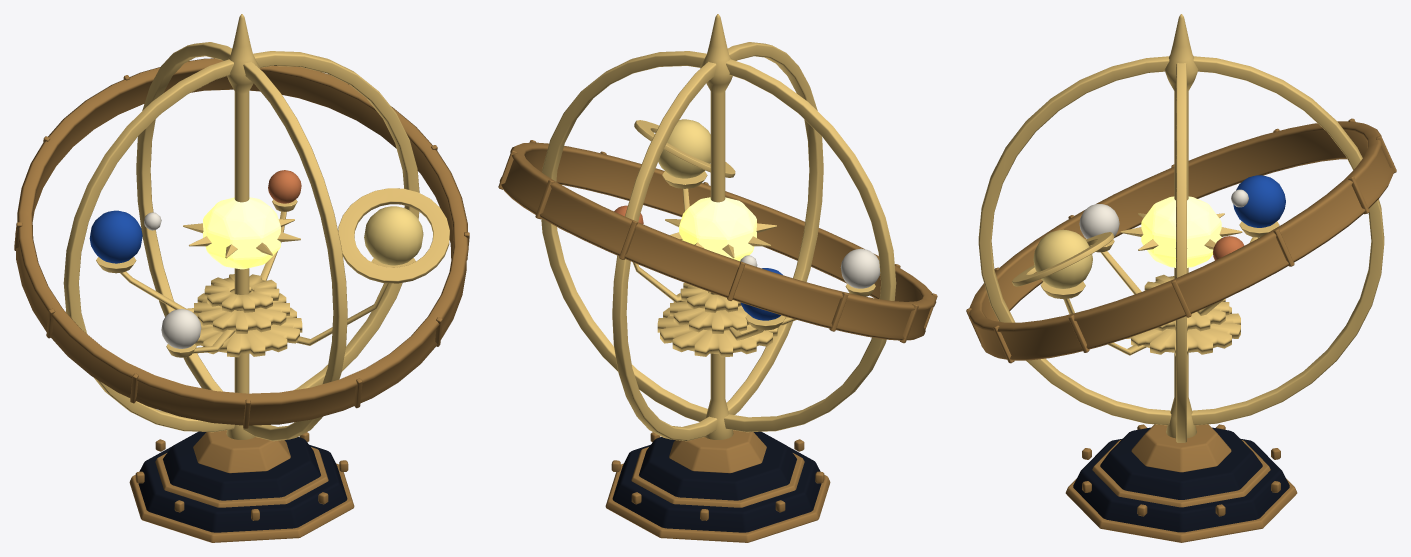
File: relic_armillary_orrery.glb
3 views of the same model, side by side, from view 1: azimuth 30°, elevation 25°; view 2: azimuth 150°, elevation 25°; view 3: azimuth 270°, elevation 25° (orthographic).
Parts seen in each view (by area): view 1: Orrery_Ecliptic_Band, Orrery_Meridian_Hoops, Orrery_Pedestal_Obsidian, Orrery_Gears_Arms, Orrery_Pedestal_Bronze, Orrery_Saturn_Ring, Orrery_Spindle_Finial, Orrery_Solar_Core, Orrery_Planet_Saturn, Orrery_Planet_Lapis, Orrery_Planet_Pearl, Orrery_Planet_Copper; view 2: Orrery_Ecliptic_Band, Orrery_Meridian_Hoops, Orrery_Pedestal_Obsidian, Orrery_Pedestal_Bronze, Orrery_Gears_Arms, Orrery_Spindle_Finial, Orrery_Solar_Core, Orrery_Planet_Saturn, Orrery_Planet_Pearl, Orrery_Saturn_Ring; view 3: Orrery_Ecliptic_Band, Orrery_Meridian_Hoops, Orrery_Pedestal_Obsidian, Orrery_Pedestal_Bronze, Orrery_Gears_Arms, Orrery_Solar_Core, Orrery_Planet_Saturn, Orrery_Spindle_Finial, Orrery_Planet_Lapis, Orrery_Saturn_Ring, Orrery_Planet_Pearl.
Part boxes in pixels (box(x1,y1,x2,y2)): Orrery_Ecliptic_Band: box(14, 58, 469, 428); Orrery_Meridian_Hoops: box(63, 42, 419, 441); Orrery_Pedestal_Obsidian: box(138, 431, 347, 532); Orrery_Gears_Arms: box(96, 199, 415, 357); Orrery_Pedestal_Bronze: box(129, 430, 354, 542); Orrery_Saturn_Ring: box(338, 188, 449, 283); Orrery_Spindle_Finial: box(226, 14, 259, 439); Orrery_Solar_Core: box(203, 197, 280, 269); Orrery_Planet_Saturn: box(364, 206, 423, 265); Orrery_Planet_Lapis: box(89, 210, 142, 263); Orrery_Planet_Pearl: box(161, 309, 201, 348); Orrery_Planet_Copper: box(268, 170, 301, 203); Orrery_Ecliptic_Band: box(498, 140, 937, 343); Orrery_Meridian_Hoops: box(541, 42, 896, 441); Orrery_Pedestal_Obsidian: box(612, 431, 821, 532); Orrery_Pedestal_Bronze: box(605, 430, 830, 542); Orrery_Gears_Arms: box(632, 171, 875, 357); Orrery_Spindle_Finial: box(700, 14, 733, 439); Orrery_Solar_Core: box(679, 197, 756, 261); Orrery_Planet_Saturn: box(658, 119, 710, 178); Orrery_Planet_Pearl: box(840, 248, 880, 288); Orrery_Saturn_Ring: box(634, 120, 735, 177); Orrery_Ecliptic_Band: box(966, 118, 1396, 363); Orrery_Meridian_Hoops: box(978, 56, 1384, 442); Orrery_Pedestal_Obsidian: box(1073, 427, 1289, 532); Orrery_Pedestal_Bronze: box(1065, 424, 1297, 542); Orrery_Gears_Arms: box(1040, 213, 1279, 356); Orrery_Solar_Core: box(1141, 196, 1221, 267); Orrery_Planet_Saturn: box(1033, 229, 1092, 288); Orrery_Spindle_Finial: box(1164, 14, 1198, 438); Orrery_Planet_Lapis: box(1233, 175, 1285, 227); Orrery_Saturn_Ring: box(1012, 232, 1114, 286); Orrery_Planet_Pearl: box(1079, 204, 1119, 238).
Bounding box in the file's own units: 1.32 × 1.55 × 1.26.
